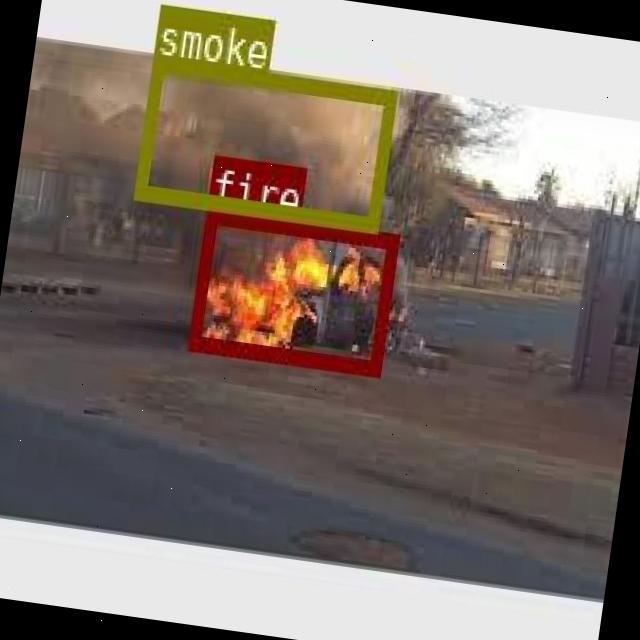fire: (188, 206, 397, 374)
smoke: (132, 55, 395, 231)
